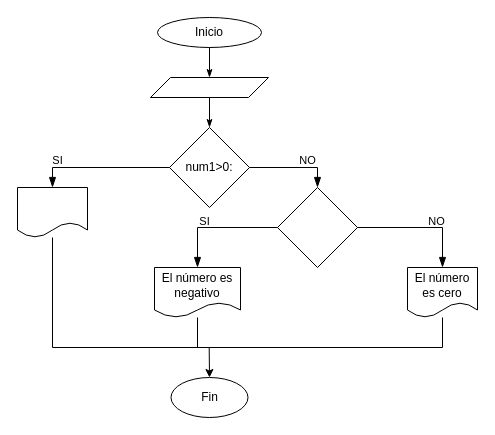
This 495x435 diagram has some shape labels left out. The box of each missing label's shape, as (x1, y1, x2, y2) in pixels:
El número es positivo: (16, 186, 88, 238)
num1: (150, 76, 268, 98)
num1<0: (276, 186, 358, 268)
